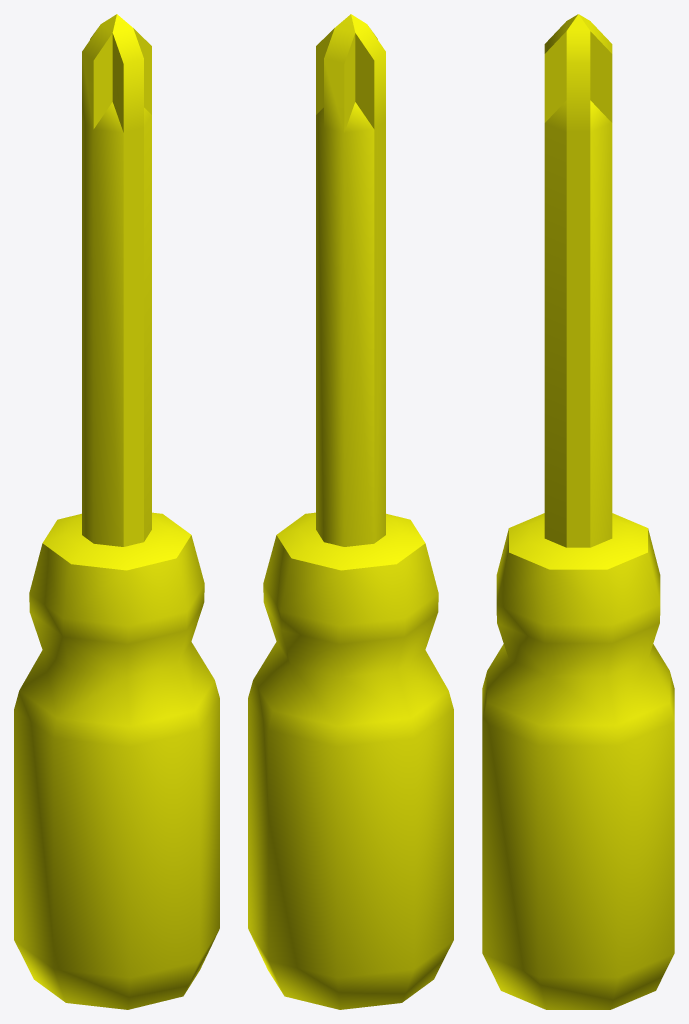
File: kaykit-screwdriver-b-long.glb
3 renders of one model, left to right at view 1: azimuth 30°, elevation 25°; view 2: azimuth 150°, elevation 25°; view 3: azimuth 270°, elevation 25°, orthographic.
Visible parts, largest first — view 1: screwdriver_B_long; view 2: screwdriver_B_long; view 3: screwdriver_B_long.
Boxes of the visible parts, x1,y1,x2,y2 form: screwdriver_B_long: (14, 14, 219, 1009); screwdriver_B_long: (248, 14, 453, 1009); screwdriver_B_long: (482, 14, 674, 1009).
Bounding box in the file's own units: 0.1513 × 0.8536 × 0.1513.
